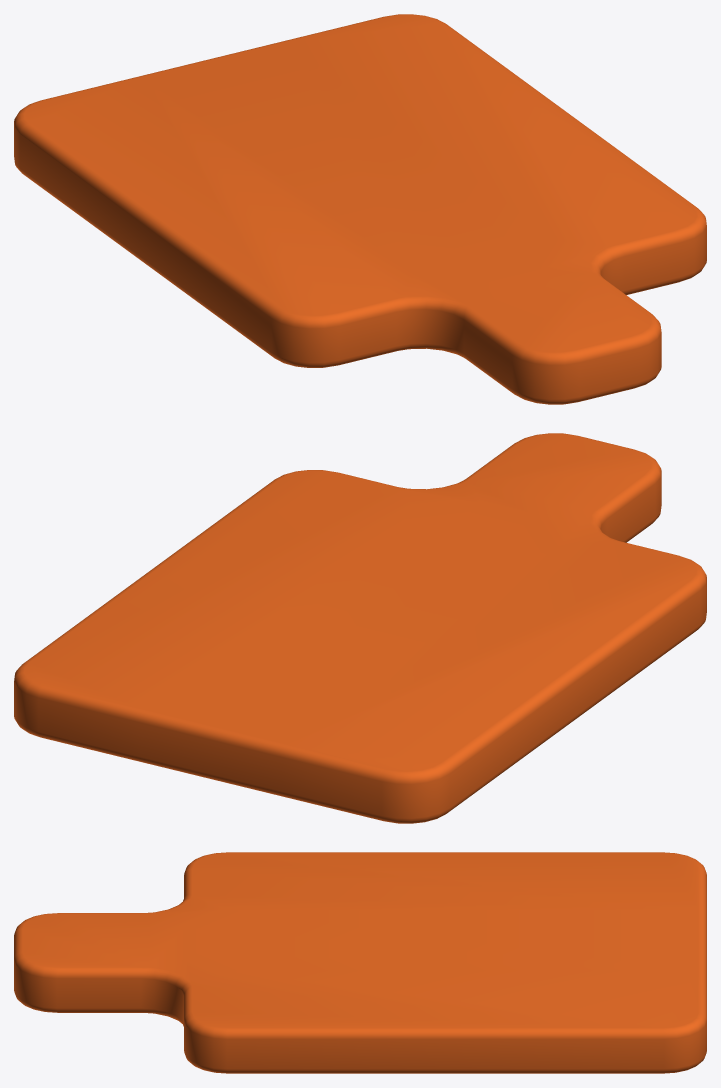
Rendered from KesmaTahtasi.fbx.
3 renders of one model, top to bottom at view 1: azimuth 30°, elevation 25°; view 2: azimuth 150°, elevation 25°; view 3: azimuth 270°, elevation 25°, orthographic. The views are drawn at different scales.
Parts seen in each view (by area): view 1: KesmaTahtasi; view 2: KesmaTahtasi; view 3: KesmaTahtasi.
Part boxes in pixels (<box>): KesmaTahtasi: <box>14,14,706,404</box>; KesmaTahtasi: <box>14,433,706,823</box>; KesmaTahtasi: <box>14,852,706,1073</box>.
Bounding box in the file's own units: 105 × 12.03 × 168.
